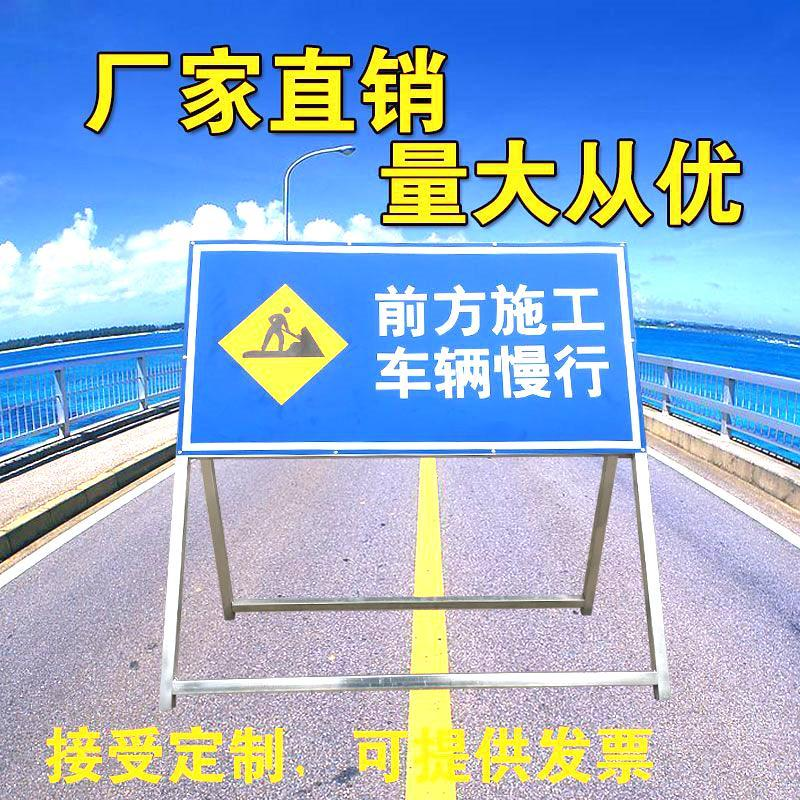sign: (184, 240, 646, 456)
